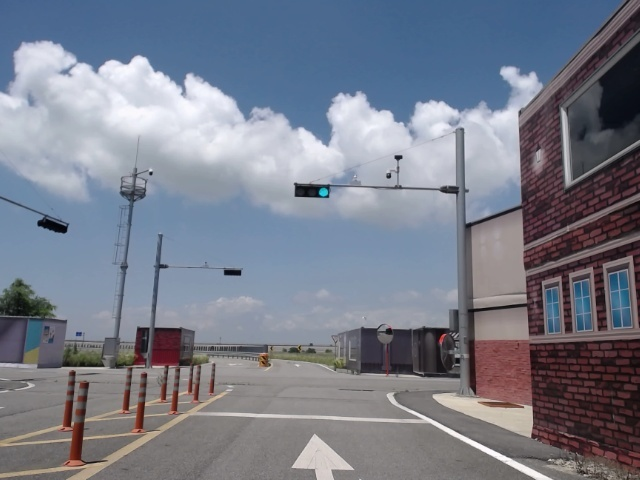green_3: (296, 185, 329, 197)
